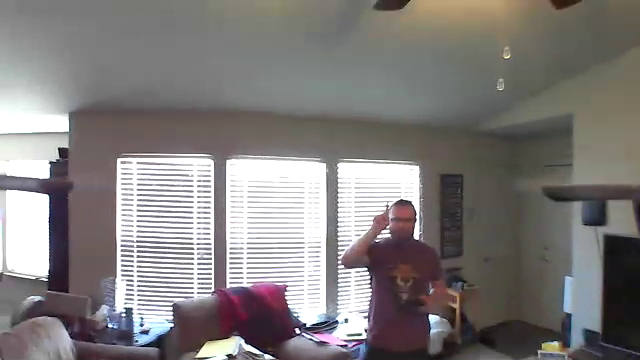up: (371, 200, 392, 231)
